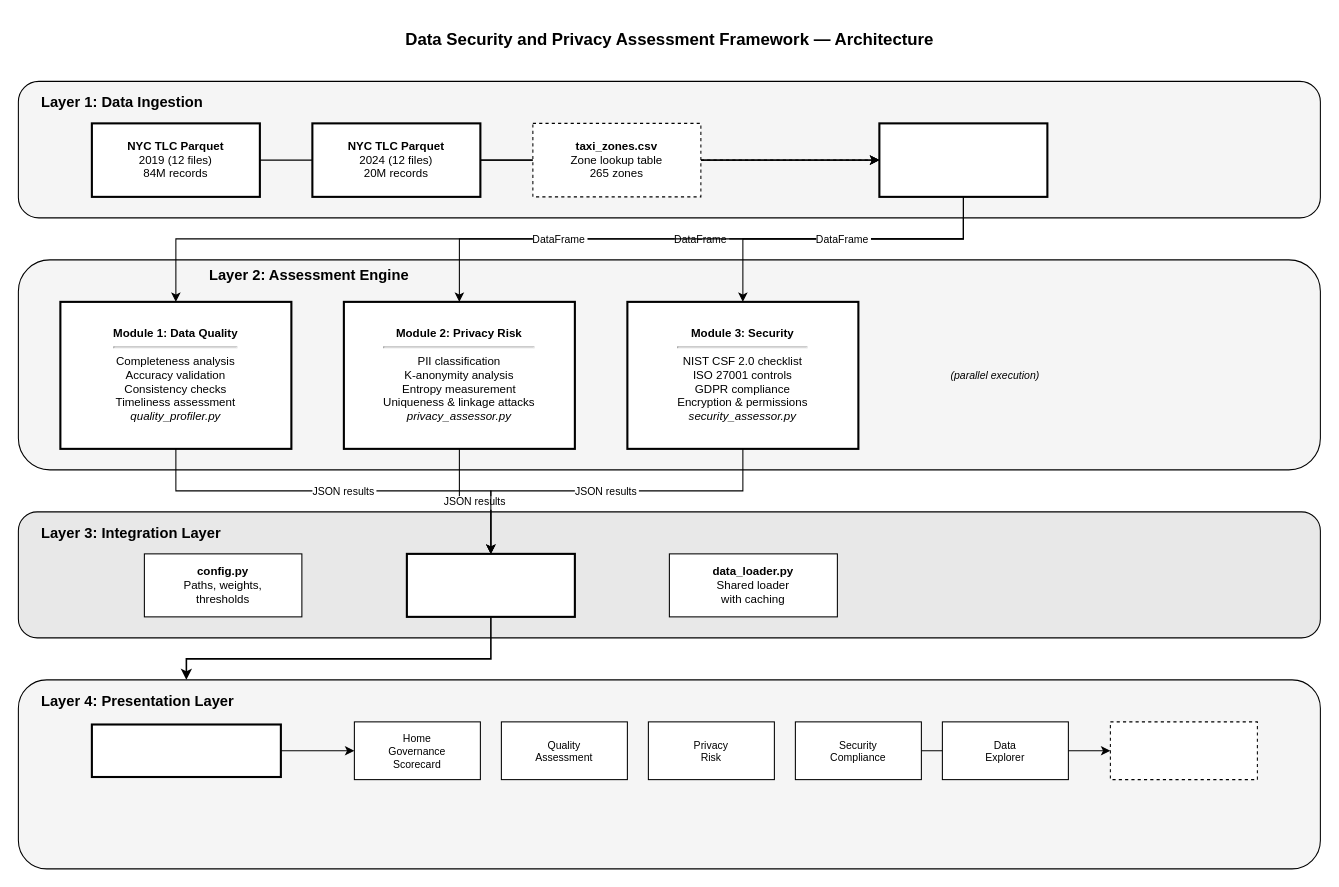
This 1339x887 diagram has some shape labels left out. Each missing label, with the centre of its shape:
data_loader.py Parquet reader Optional sampling: the point at 963,159
Export PDF / CSV Reports: the point at 1183,750
run_all.py Orchestrator (CLI entry point): the point at 490,584
Streamlit Dashboard (Home.py): the point at 185,750
